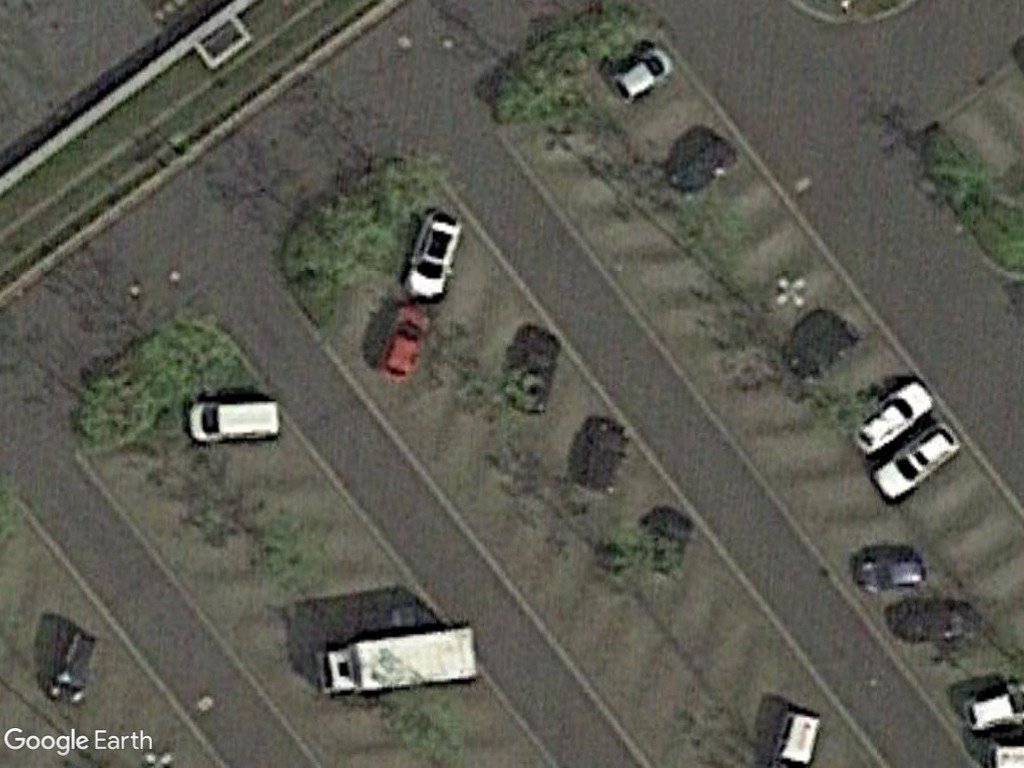car: (866, 424, 963, 504), (847, 383, 939, 459), (396, 210, 464, 300), (373, 299, 437, 385), (602, 46, 684, 108)
truck: (310, 620, 487, 698)
van: (183, 395, 285, 447)
